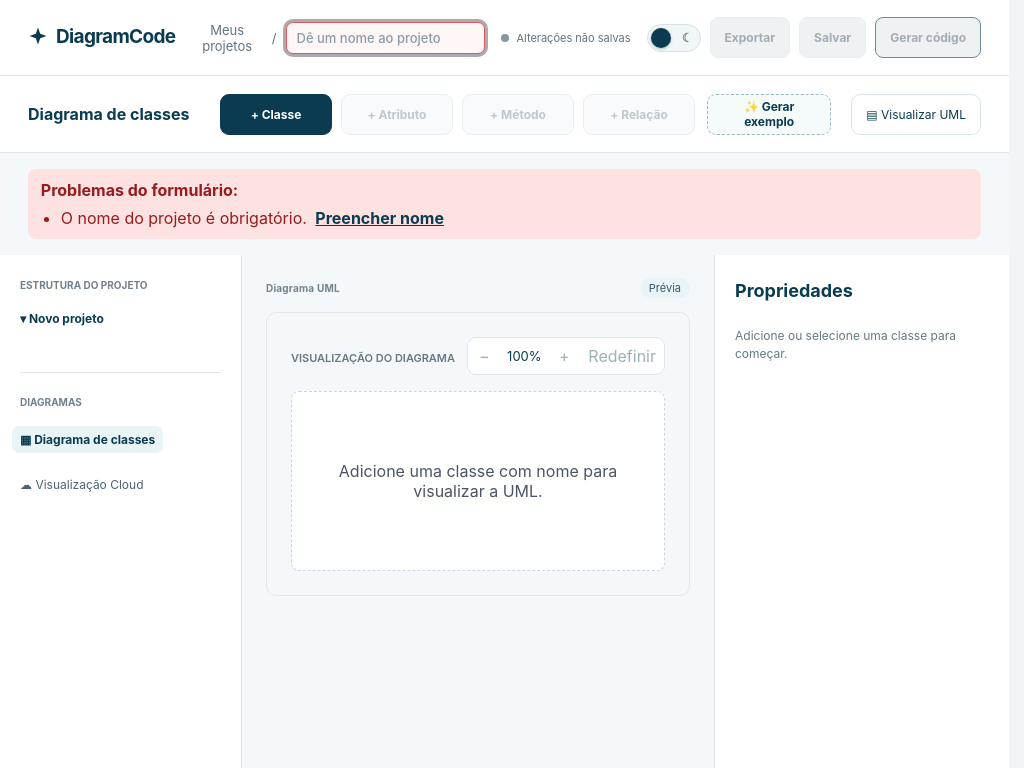
Scenario: FE-18 — CRUD de atributos › bloqueia salvar com atributo incompleto
Click the button "✨ Gerar exemplo": click(769, 114) [707,94,831,134]
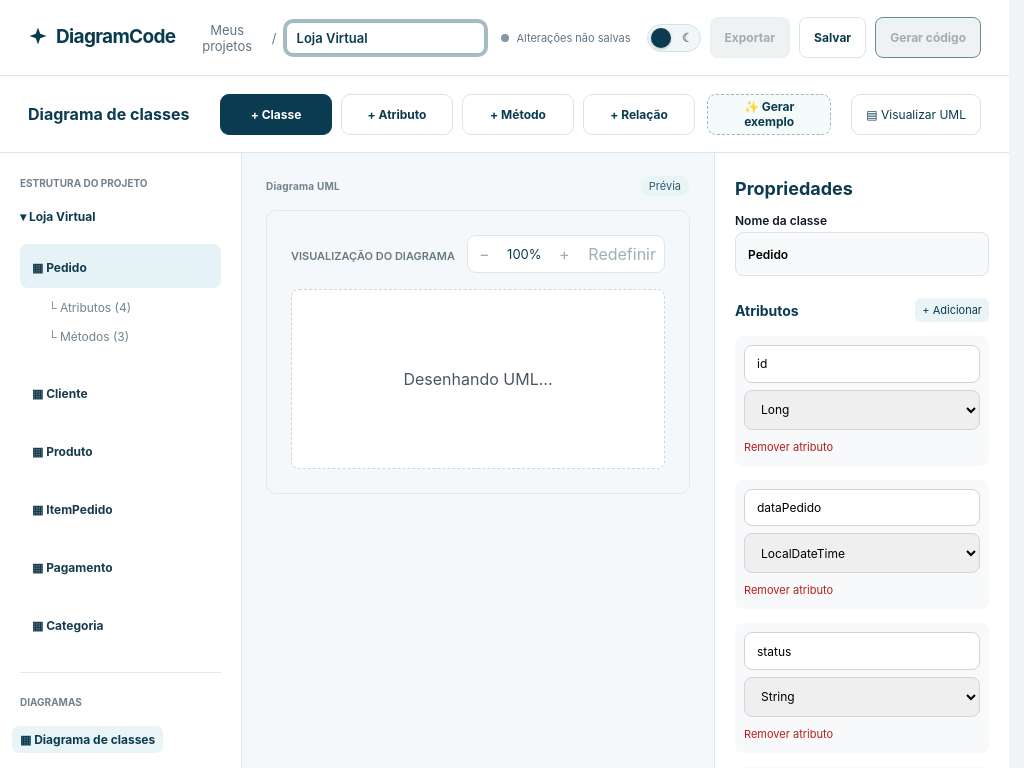
Click the button "+ Atributo": click(397, 114) [341,94,453,134]
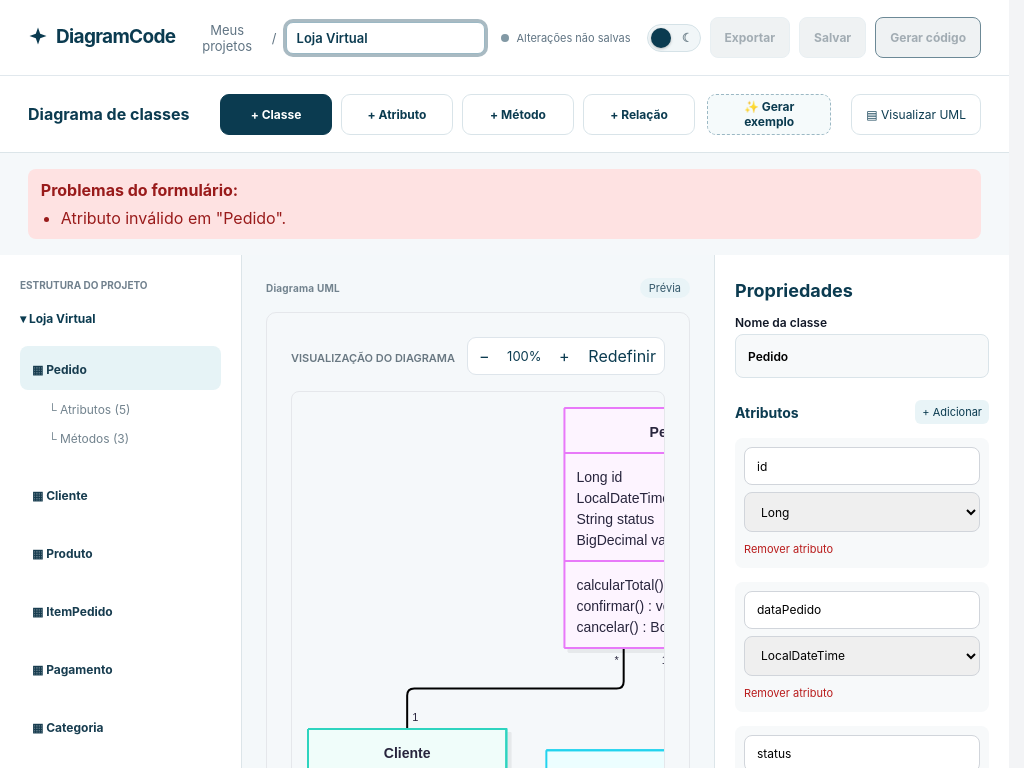
Now the button "Salvar" is disabled, box [799,17,866,58]
Now the text "Atributo inválido em \"Pedido\"." is shown, box [61,208,286,228]
